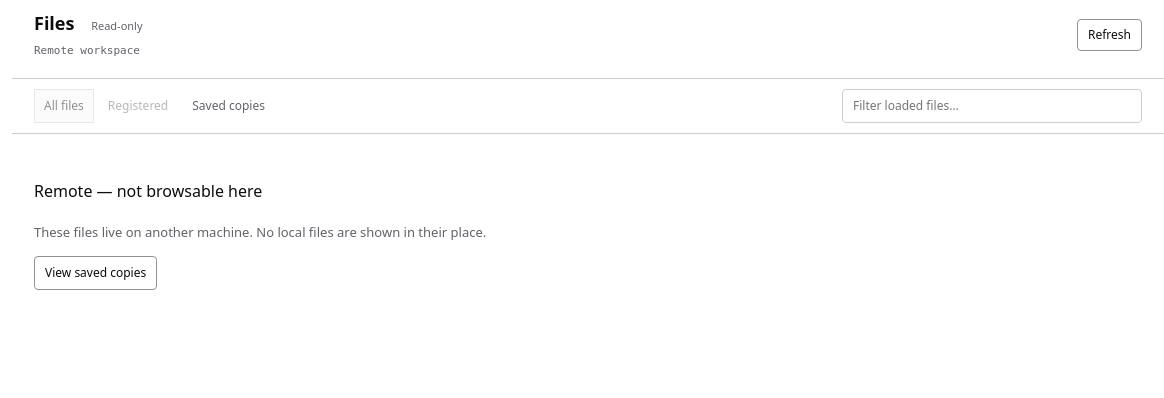
Scenario: never browses a raw remote key and routes saved snapshots with host identity
Expected: the heading "Remote — not browsable here" is shown, [34,180,262,202]
Click the button "Saved copies" at [229, 106], box [182,88,275,122]
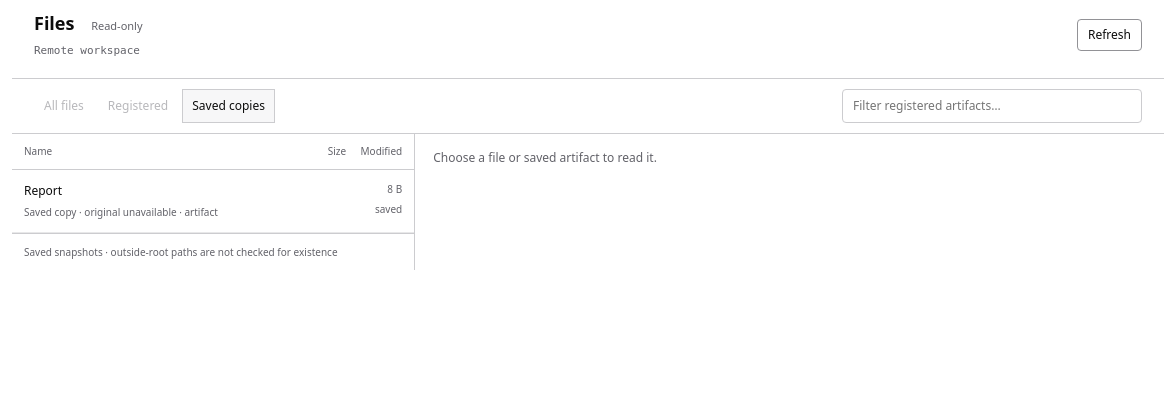
Click the button with aria-label "Text Report" at [43, 190], box [12,170,414,232]
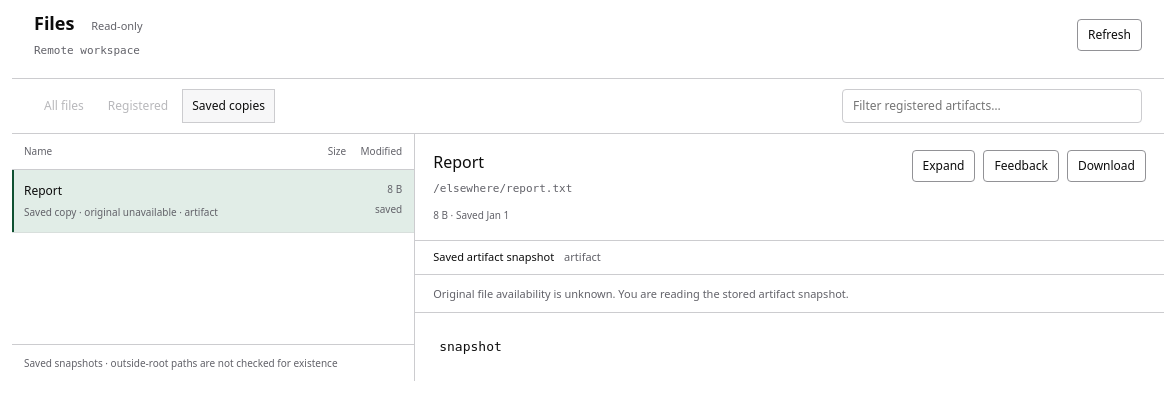
Expected: the text "snapshot" is shown, [439,339,502,354]
